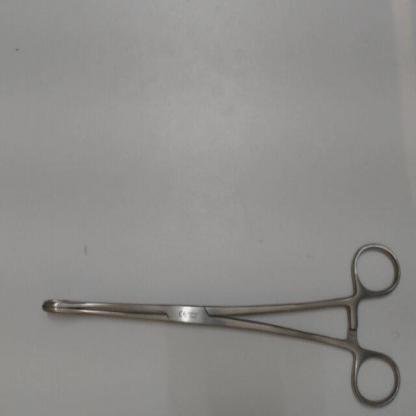Sponge Forceps: (32, 233, 408, 414)
